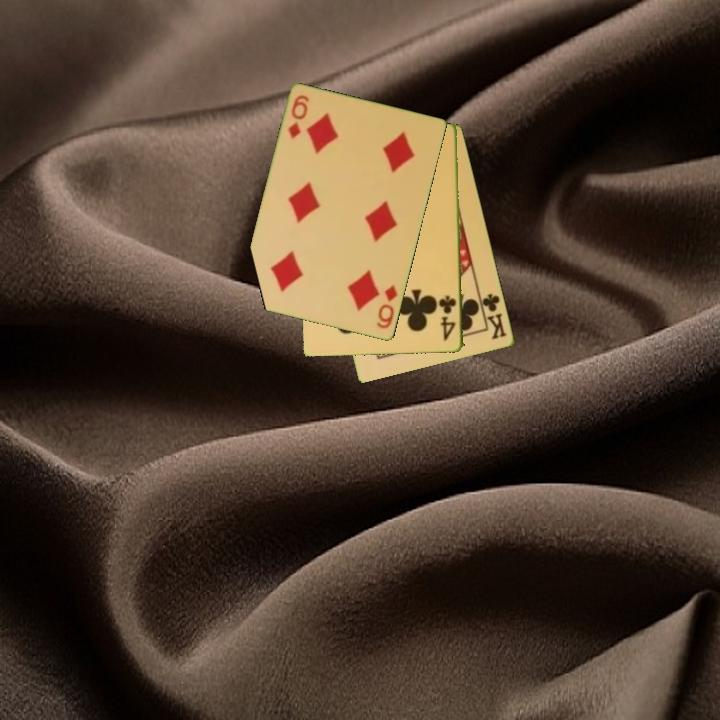4c: (437, 293, 459, 344)
6d: (373, 281, 401, 332), (284, 92, 312, 142)
Kc: (476, 290, 509, 342)
